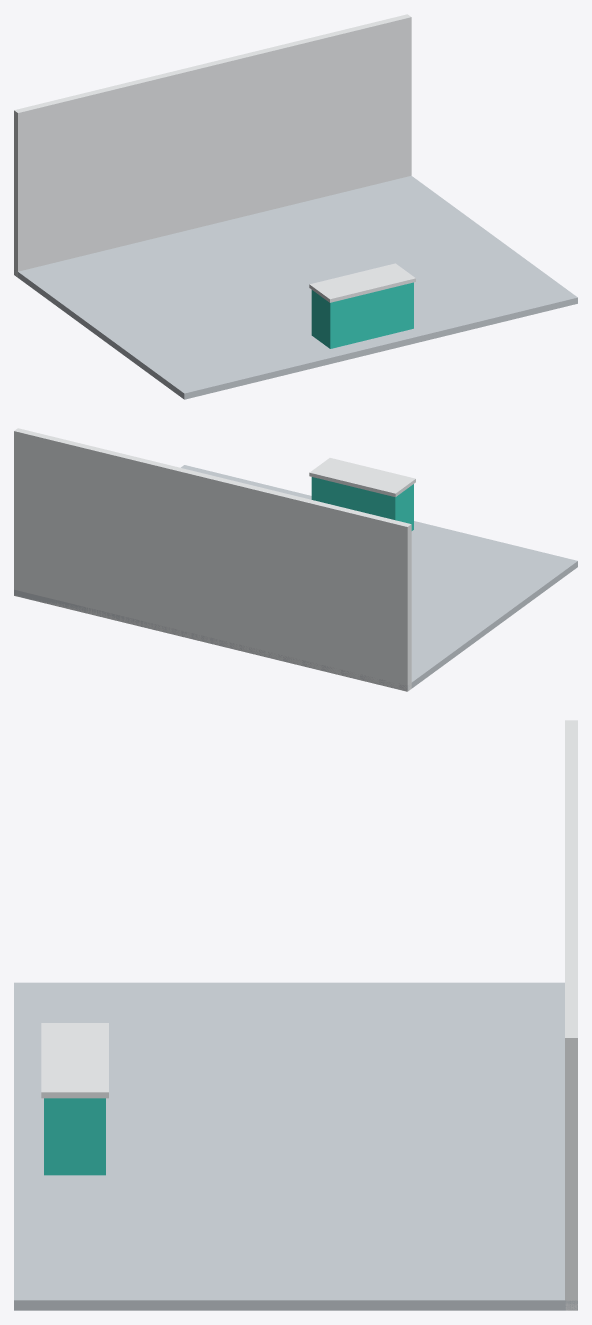
3 renders of one model, top to bottom at view 1: azimuth 30°, elevation 25°; view 2: azimuth 150°, elevation 25°; view 3: azimuth 270°, elevation 25°, orthographic. The views are drawn at different scales.
Visible parts, largest first — view 1: Exhibition Booth Concept; view 2: Exhibition Booth Concept; view 3: Exhibition Booth Concept.
Boxes of the visible parts, x1,y1,x2,y2 form: Exhibition Booth Concept: [14, 14, 577, 399]; Exhibition Booth Concept: [14, 428, 577, 691]; Exhibition Booth Concept: [14, 720, 577, 1310].
Size of the model in its own units: 8 by 3.2 by 6.
